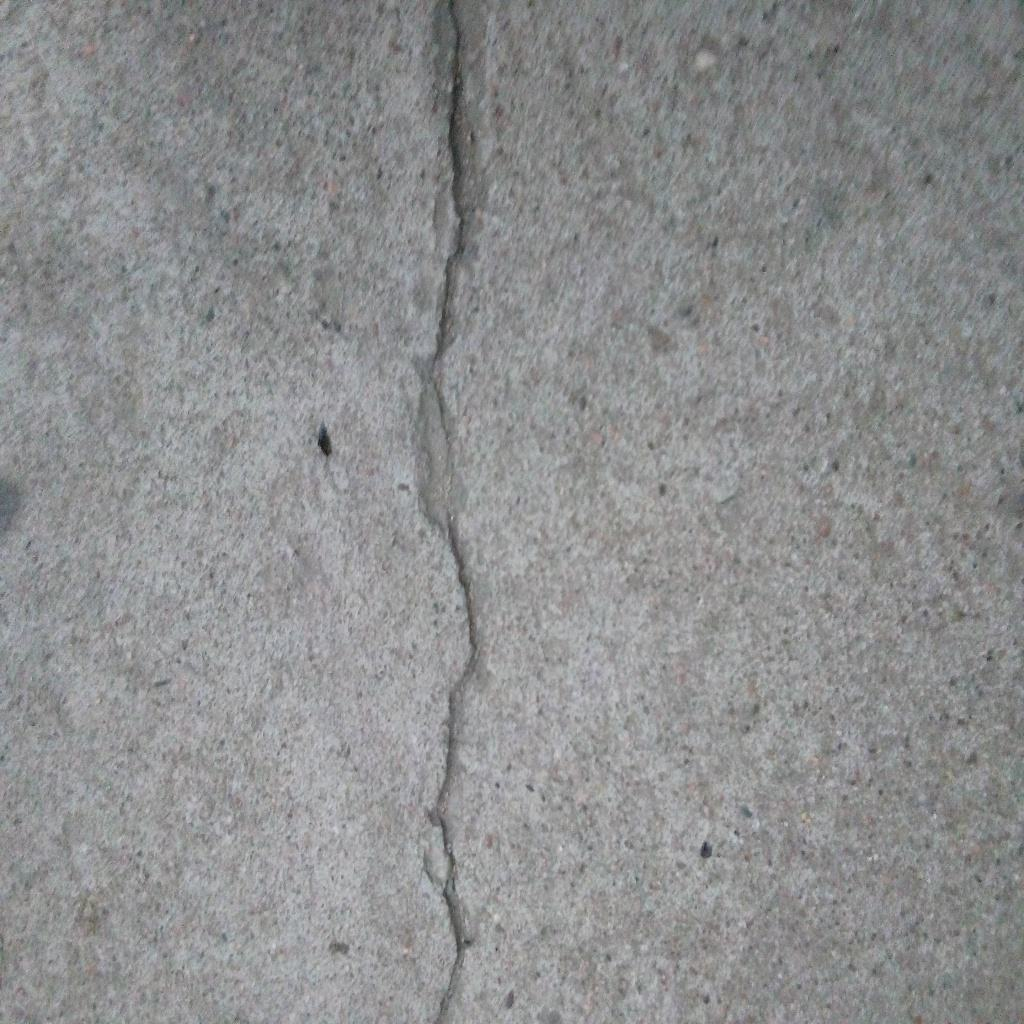Crack: (409, 1, 482, 1024)
